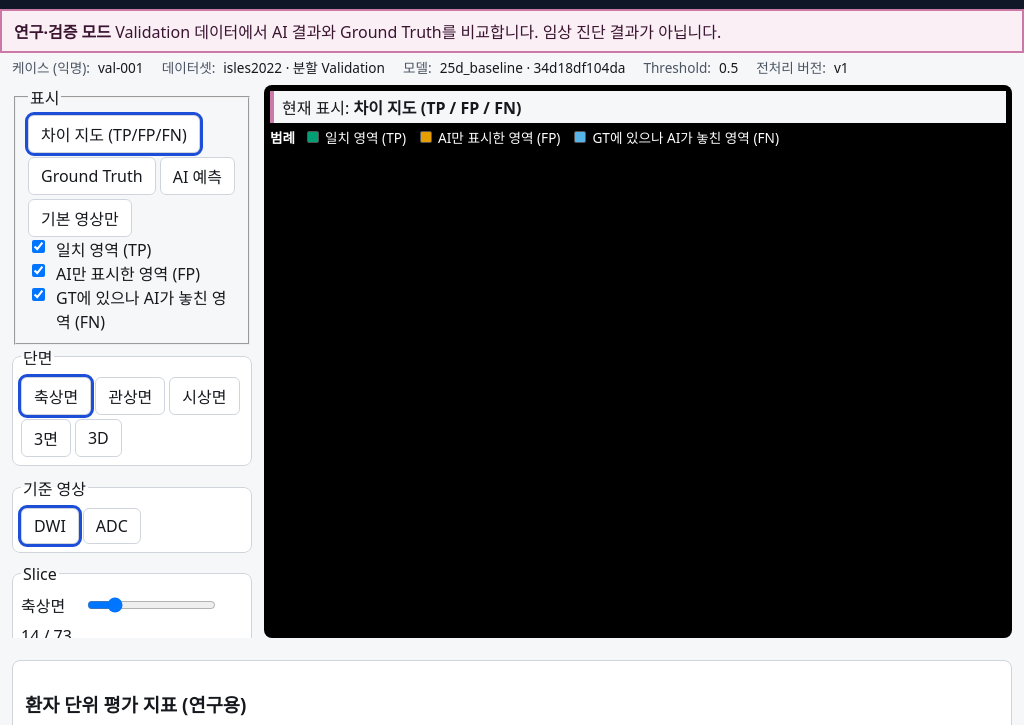
Test case: research case viewer › adds GT comparison to the component review and keeps selection / jumps
Click the radio button labelled "AI 예측" at (197, 176), box [160, 157, 235, 195]
(page scrolled)
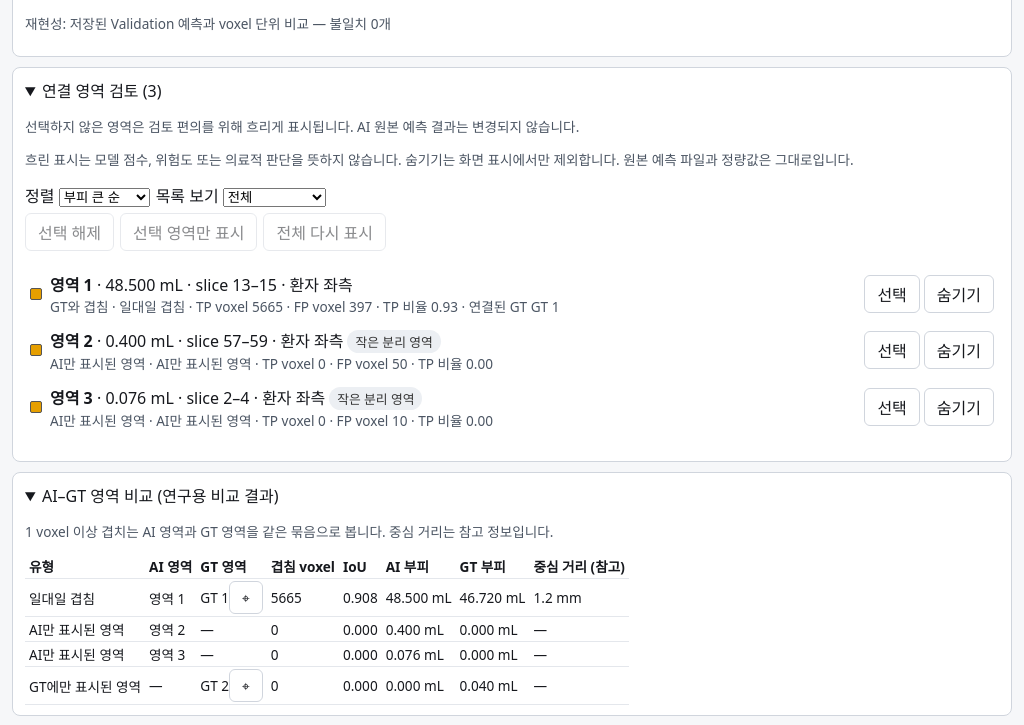
Click the button with aria-label "영역 2 선택 및 위치로 이동" at (892, 350), box [864, 332, 920, 370]
(page scrolled)
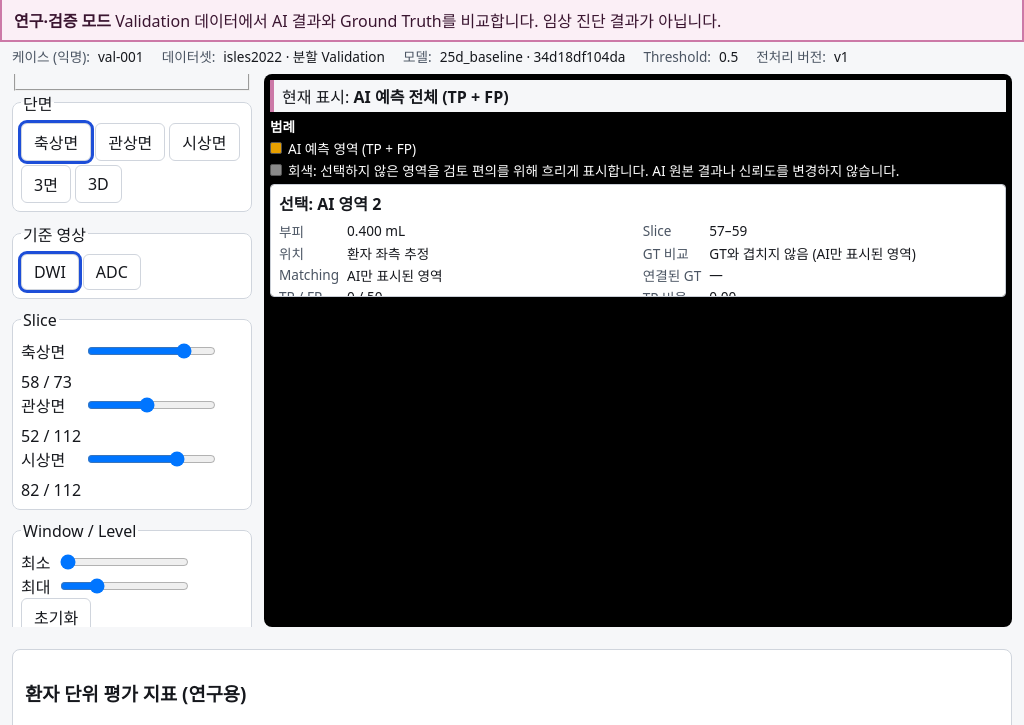
Result: the slider named "Slice (축상면)" holds "57" at [87, 343, 216, 359]
